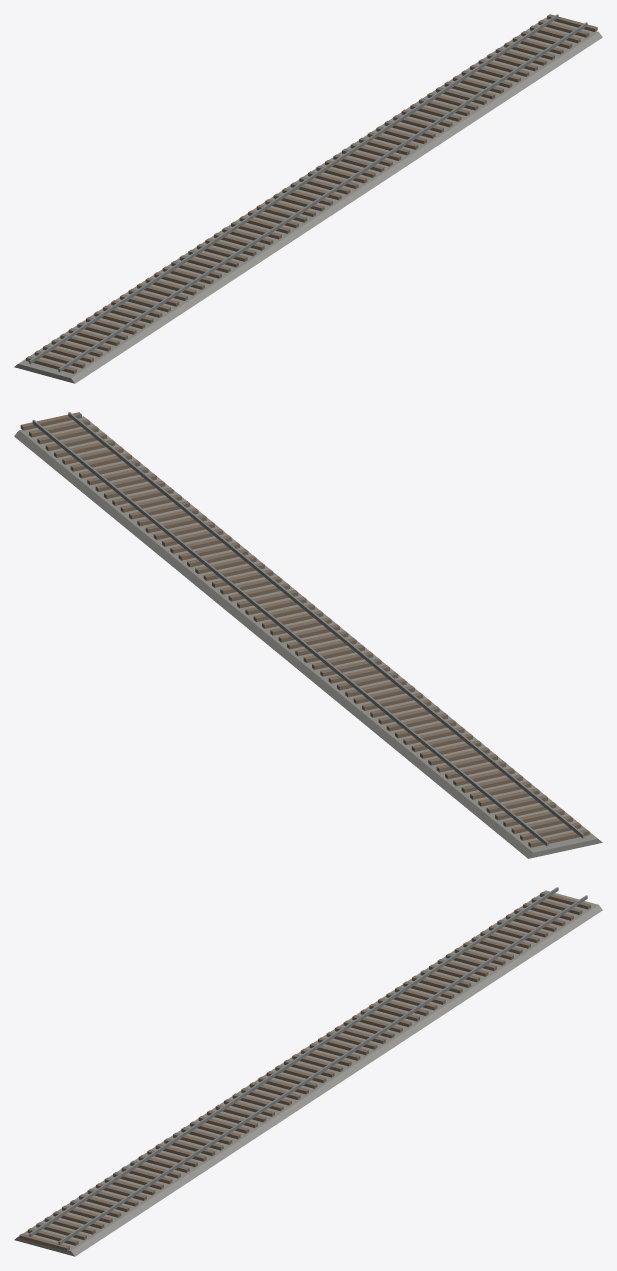
File: rail_01213.glb
The picture shows the model from 3 angles, top to bottom: view 1: azimuth 90°, elevation 25°; view 2: azimuth 150°, elevation 25°; view 3: azimuth 270°, elevation 25°; orthographic projection. The views are drawn at different scales.
Parts seen in each view (by area): view 1: Sleepers, Ballast, Rails; view 2: Sleepers, Ballast, Rails; view 3: Sleepers, Ballast, Rails.
Boxes of the visible parts, x1,y1,x2,y2 form: Sleepers: (26,14,597,373); Ballast: (14,17,602,383); Rails: (29,14,587,371); Sleepers: (20,412,589,847); Ballast: (14,416,602,858); Rails: (32,412,584,846); Sleepers: (19,891,590,1251); Ballast: (14,890,602,1256); Rails: (29,887,587,1244).
Bounding box in the file's own units: 35.4 × 0.48 × 24.27.
